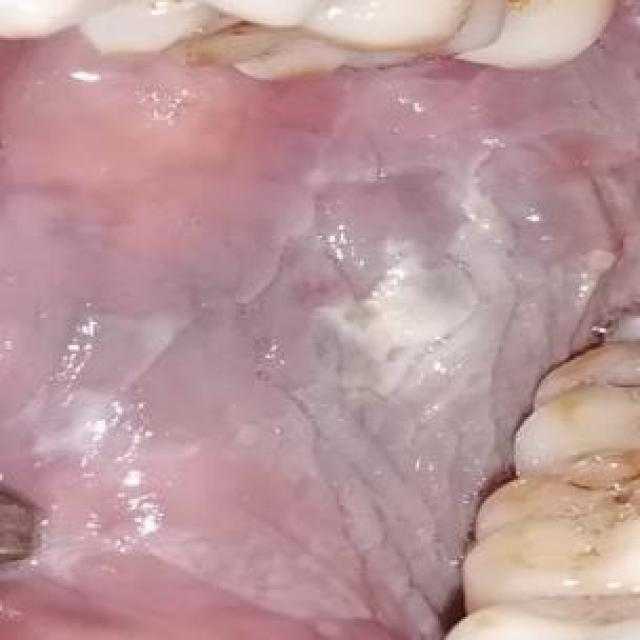leukoplakia-detection: (0, 3, 638, 638)
processing_area: (0, 0, 638, 638)
